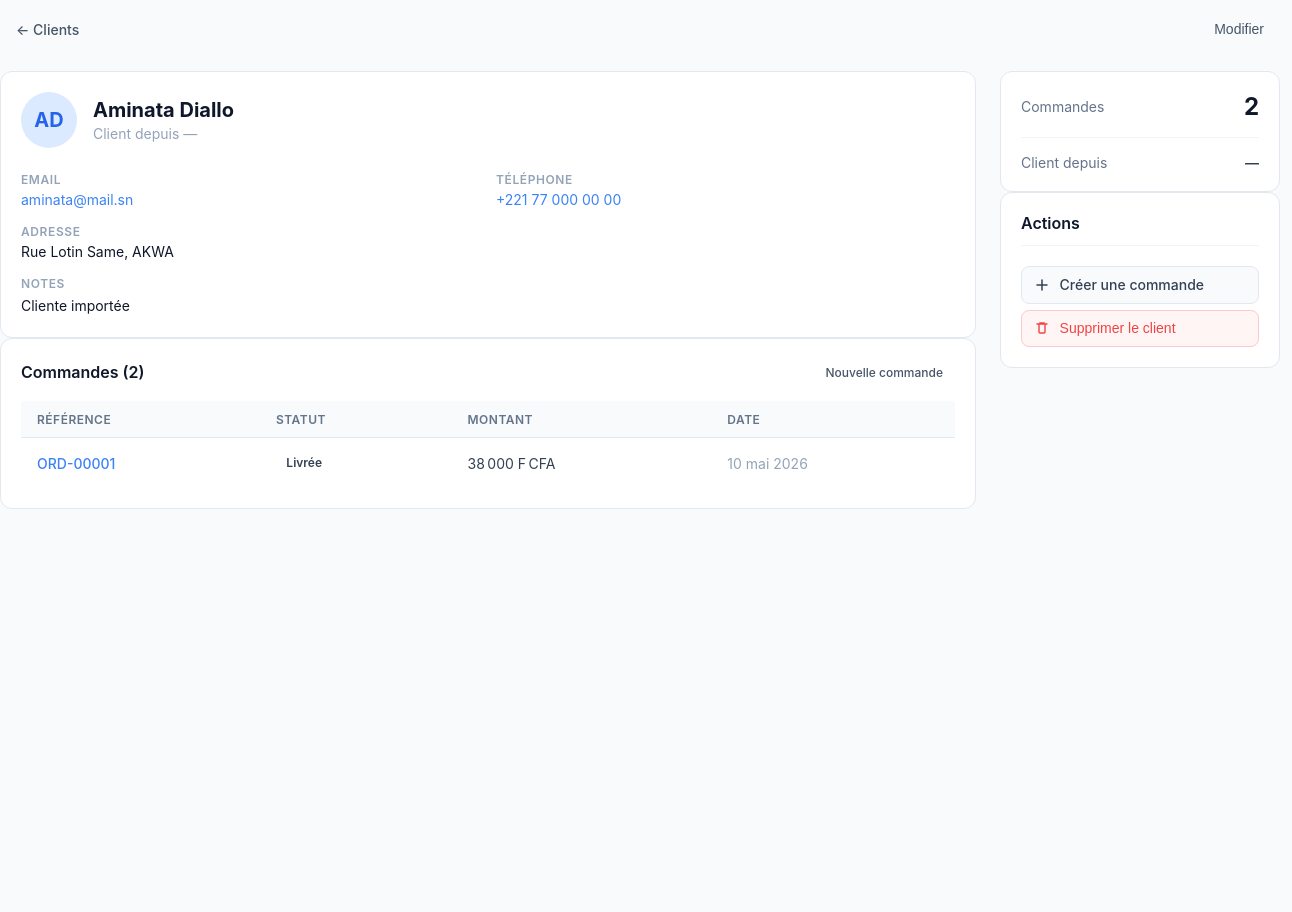
Test case: CustomerDetailView › loads a string API address into the street edit field
The image size is (1292, 912).
Click the button "Modifier".
click(1239, 29)  # box [1198,12,1280,46]
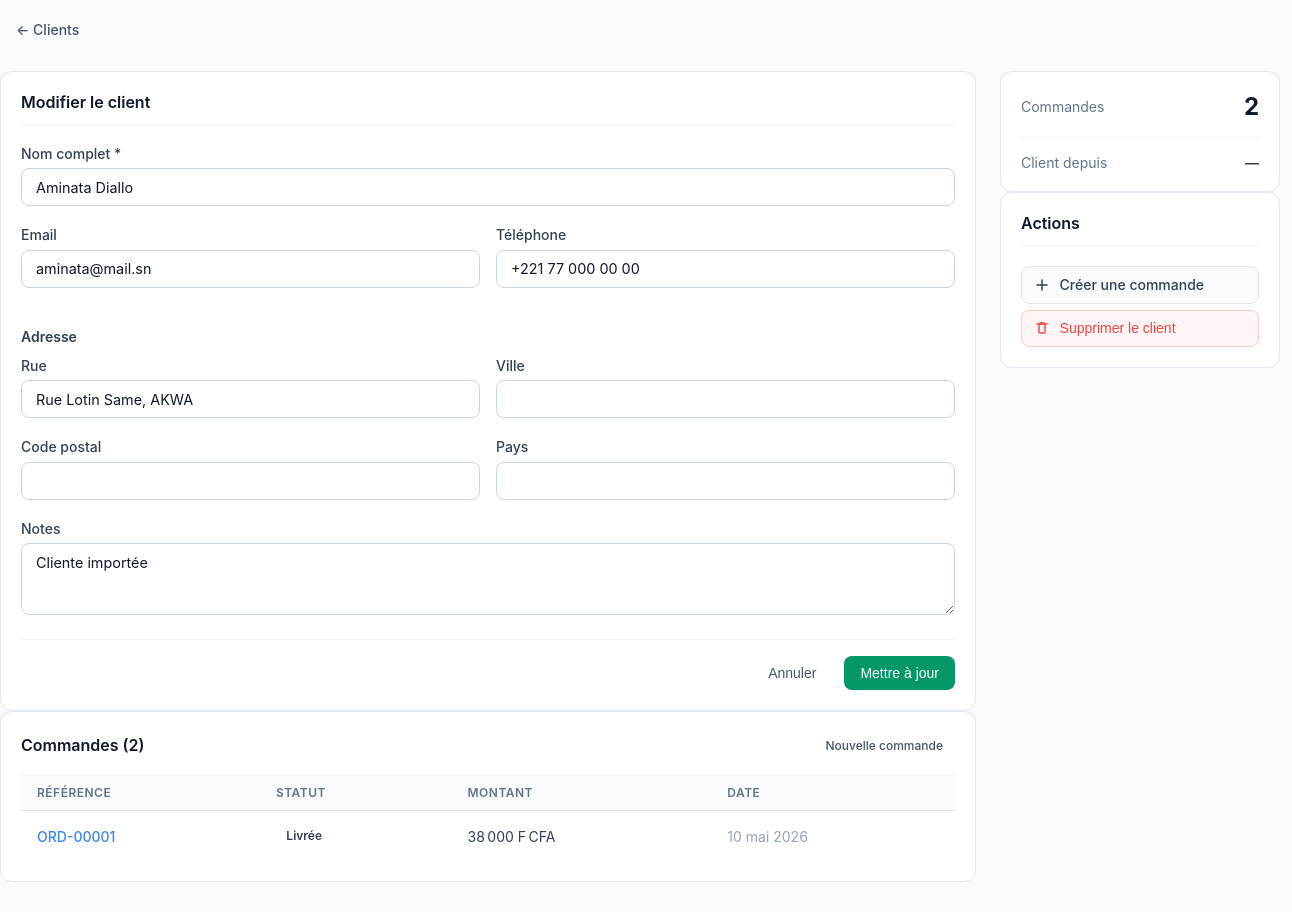
Check: the field with test id "customer-address-street" holds "Rue Lotin Same, AKWA", box [21,380,480,418]
